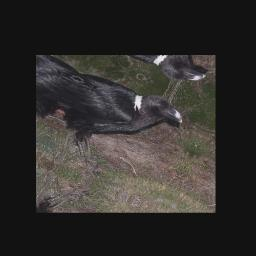Crow: (38, 64, 190, 200)
